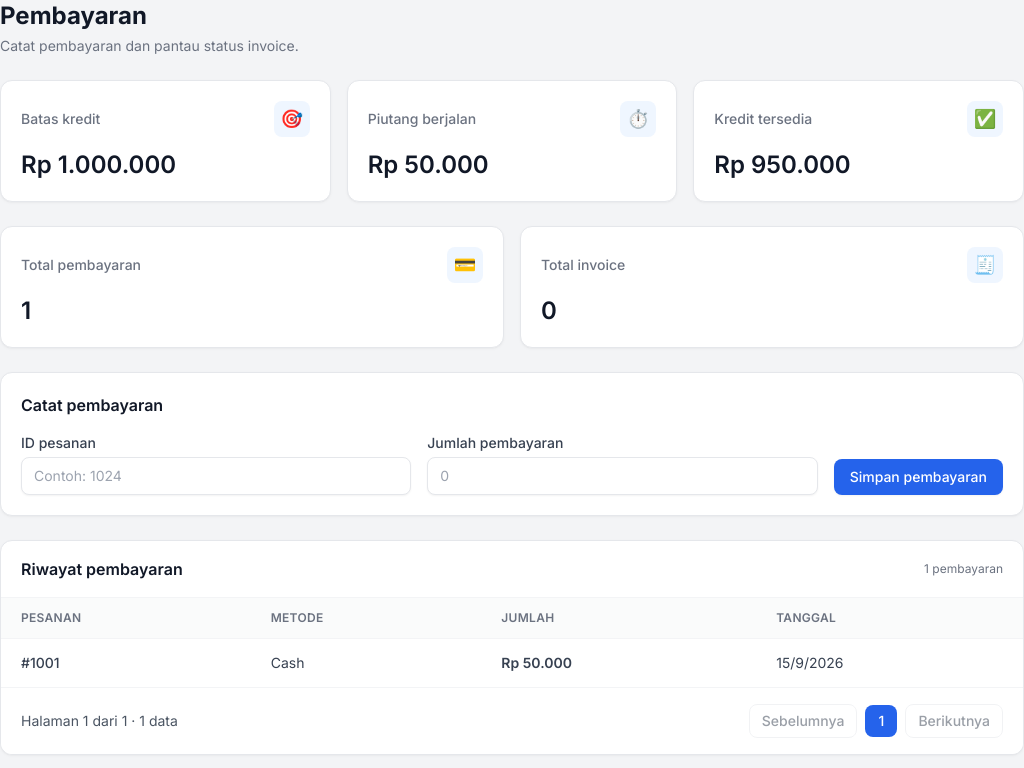
Test: PaymentsPage — data-testid contract › exposes payment-success after successful payment submission
Type "1234" into the number field with test id "payment-order-id".
click(216, 476); type("1234")  # box [21,457,411,495]
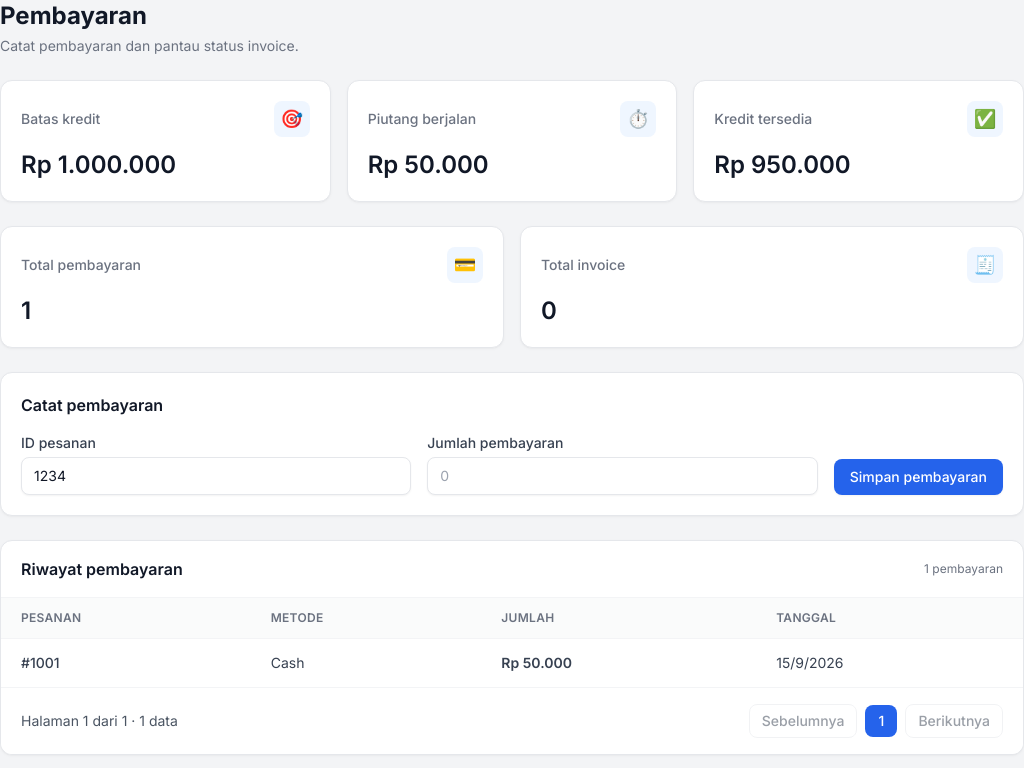
Type "25000" into the number field with test id "payment-amount".
click(622, 476); type("25000")  # box [427,457,818,495]
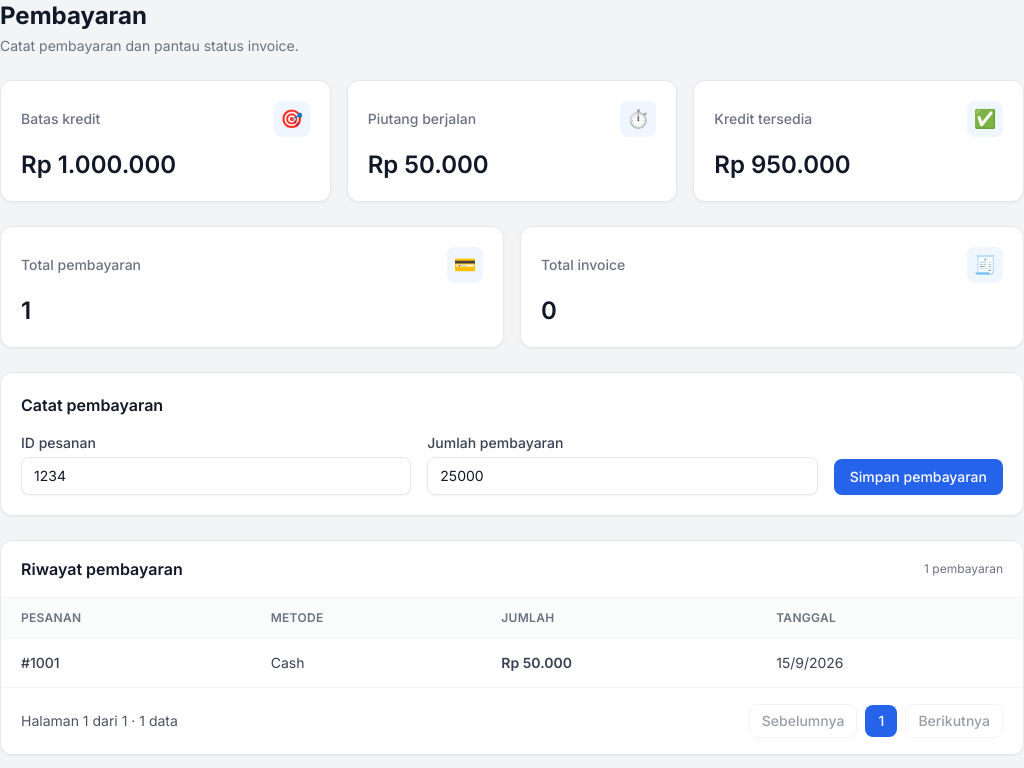
Click the button with test id "payment-submit".
click(918, 477)  # box [834,459,1003,495]
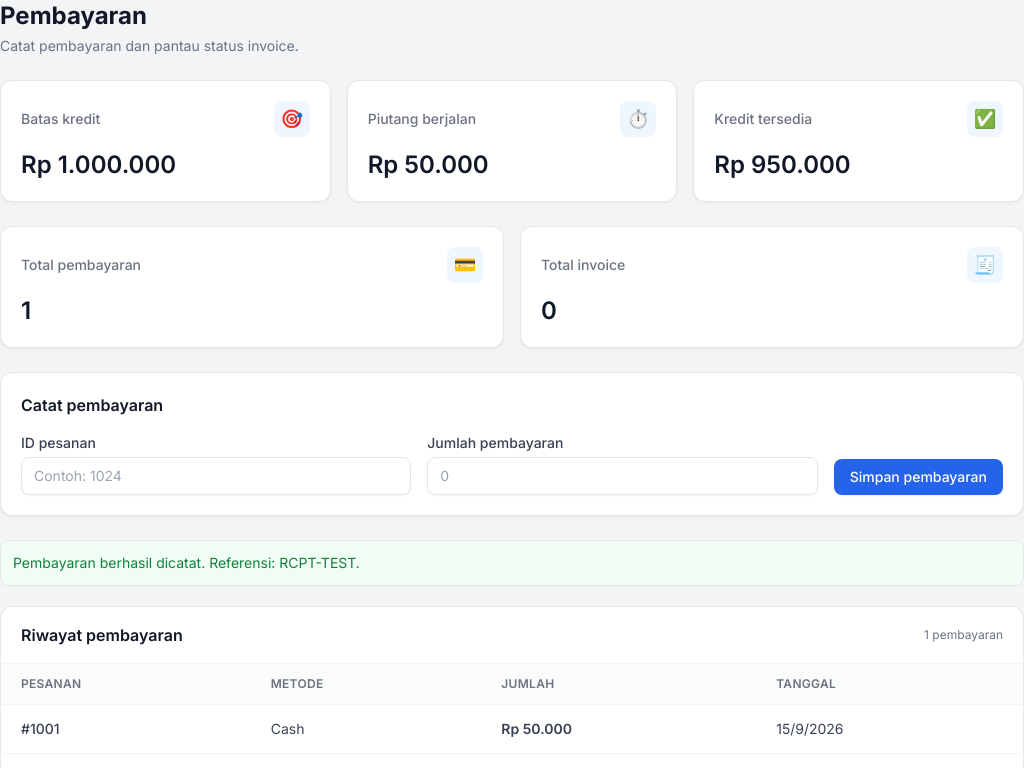
Now the text with test id "payment-success" shows "Pembayaran berhasil", box [13,554,360,571]
